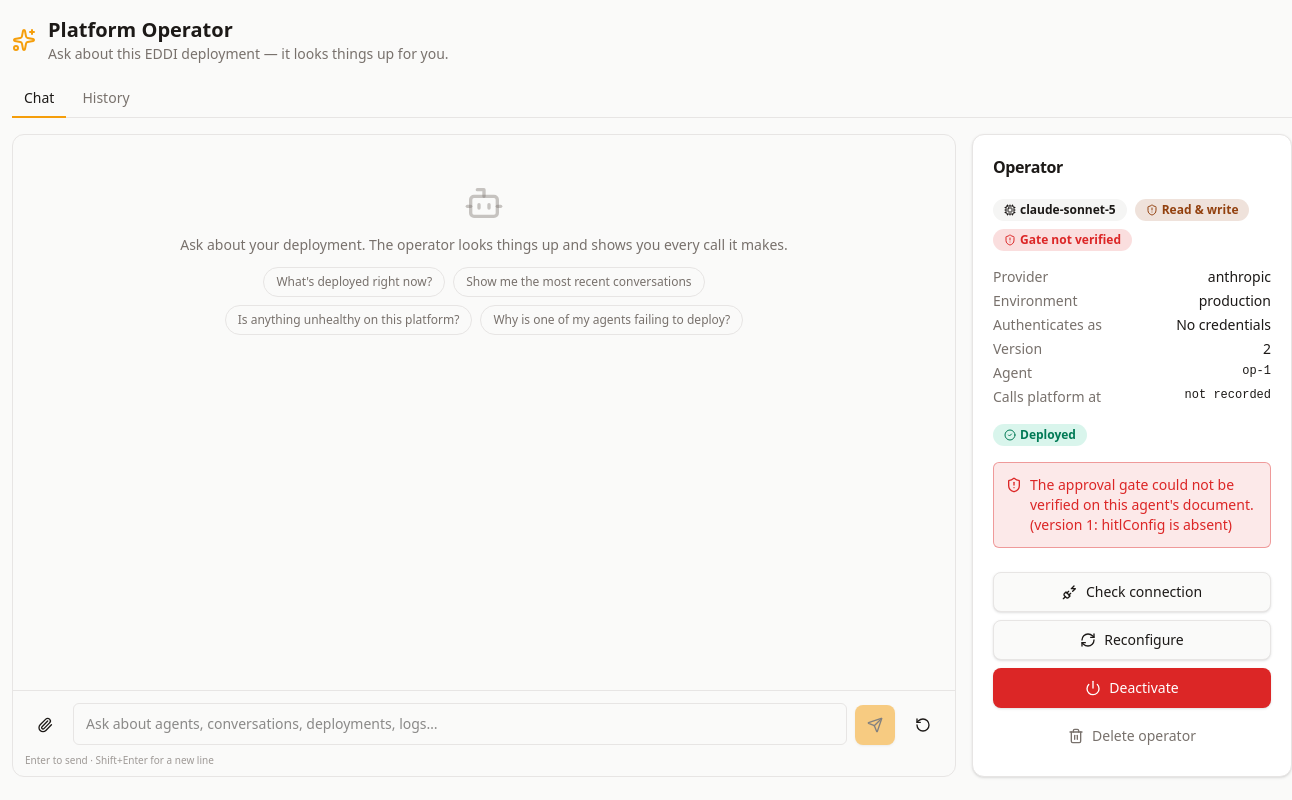
Scenario: OperatorPage — conversation history › shows an empty state when the operator has no conversations yet
This screenshot has width=1292, height=800.
Click the tab with test id "operator-tab-history": (106, 99) 70,80 -> 142,118
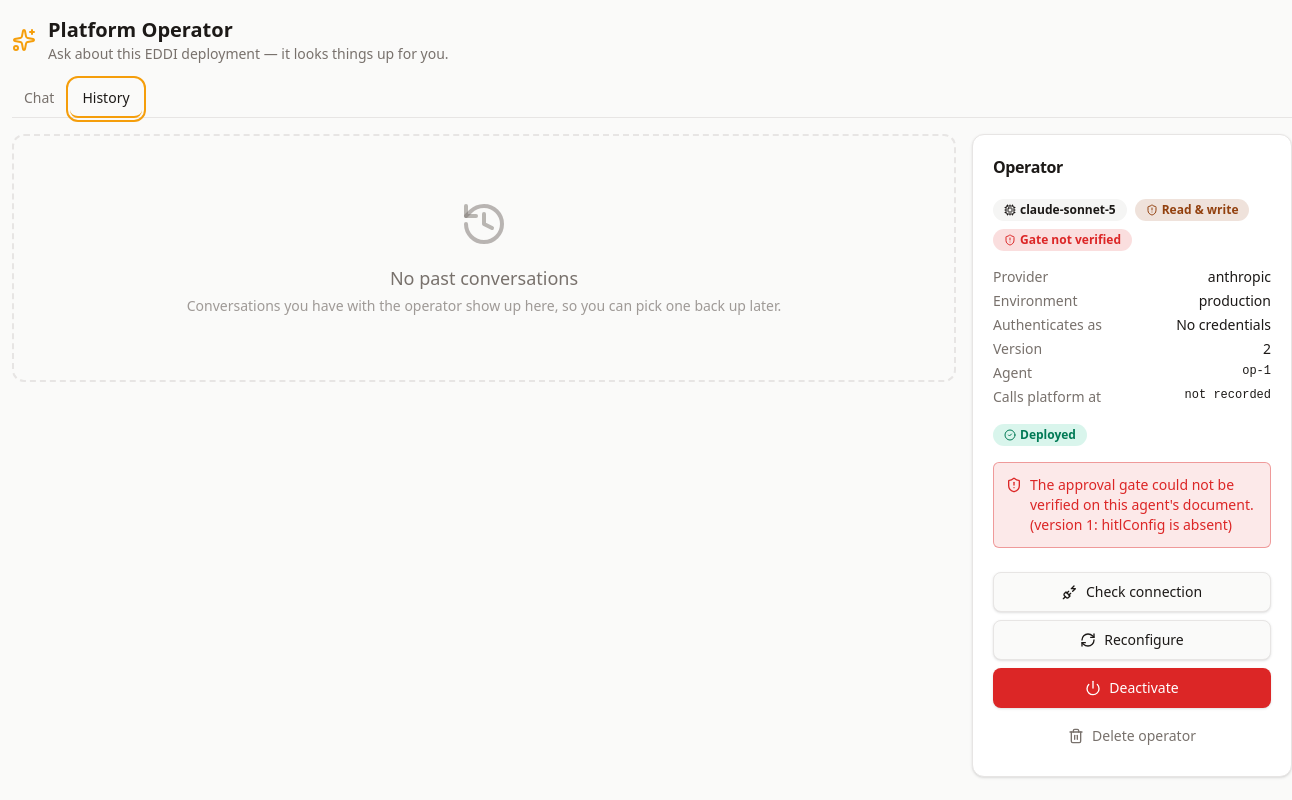
Expected: the text "No past conversations" is shown, 390,264 -> 578,292
